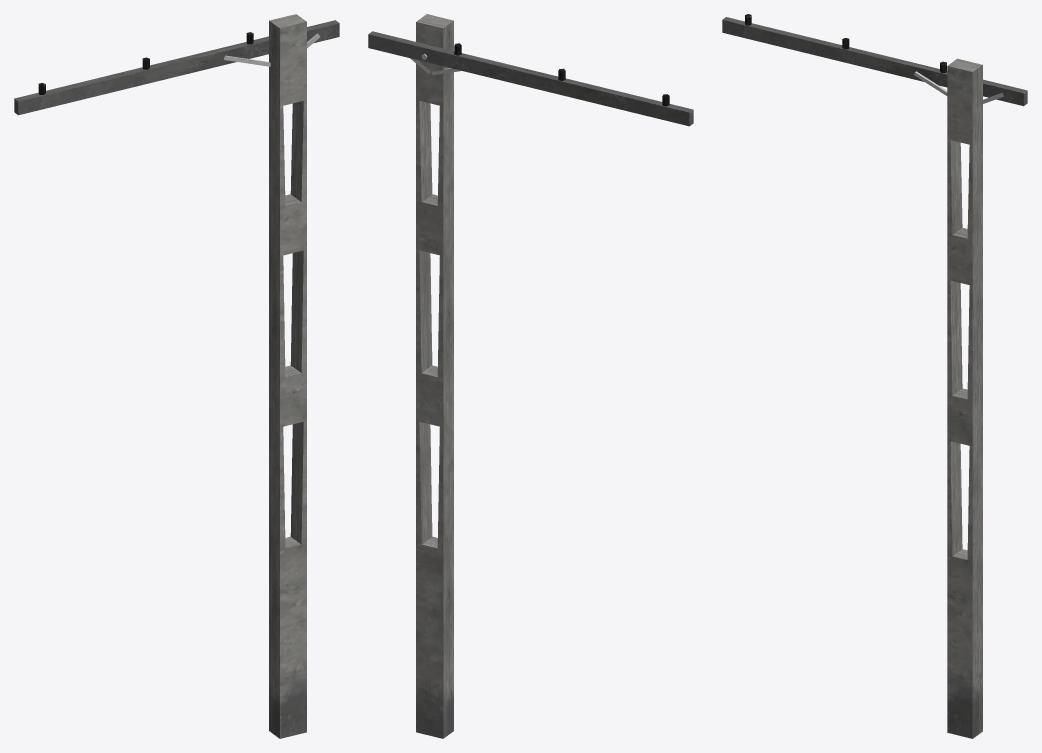
File: pole_06.glb
The picture shows the model from 3 angles, left to right: view 1: azimuth 30°, elevation 25°; view 2: azimuth 150°, elevation 25°; view 3: azimuth 330°, elevation 25°; orthographic projection. The views are drawn at different scales.
Parts seen in each view (by area): view 1: geometry_0; view 2: geometry_0; view 3: geometry_0.
Boxes of the visible parts, bbox=[...] form: geometry_0: bbox=[14, 14, 339, 738]; geometry_0: bbox=[368, 14, 693, 738]; geometry_0: bbox=[722, 14, 1027, 738].
Size of the model in its own units: 0.2367 by 0.5 by 0.0202.
Materials: 1 (1 with a texture image).
